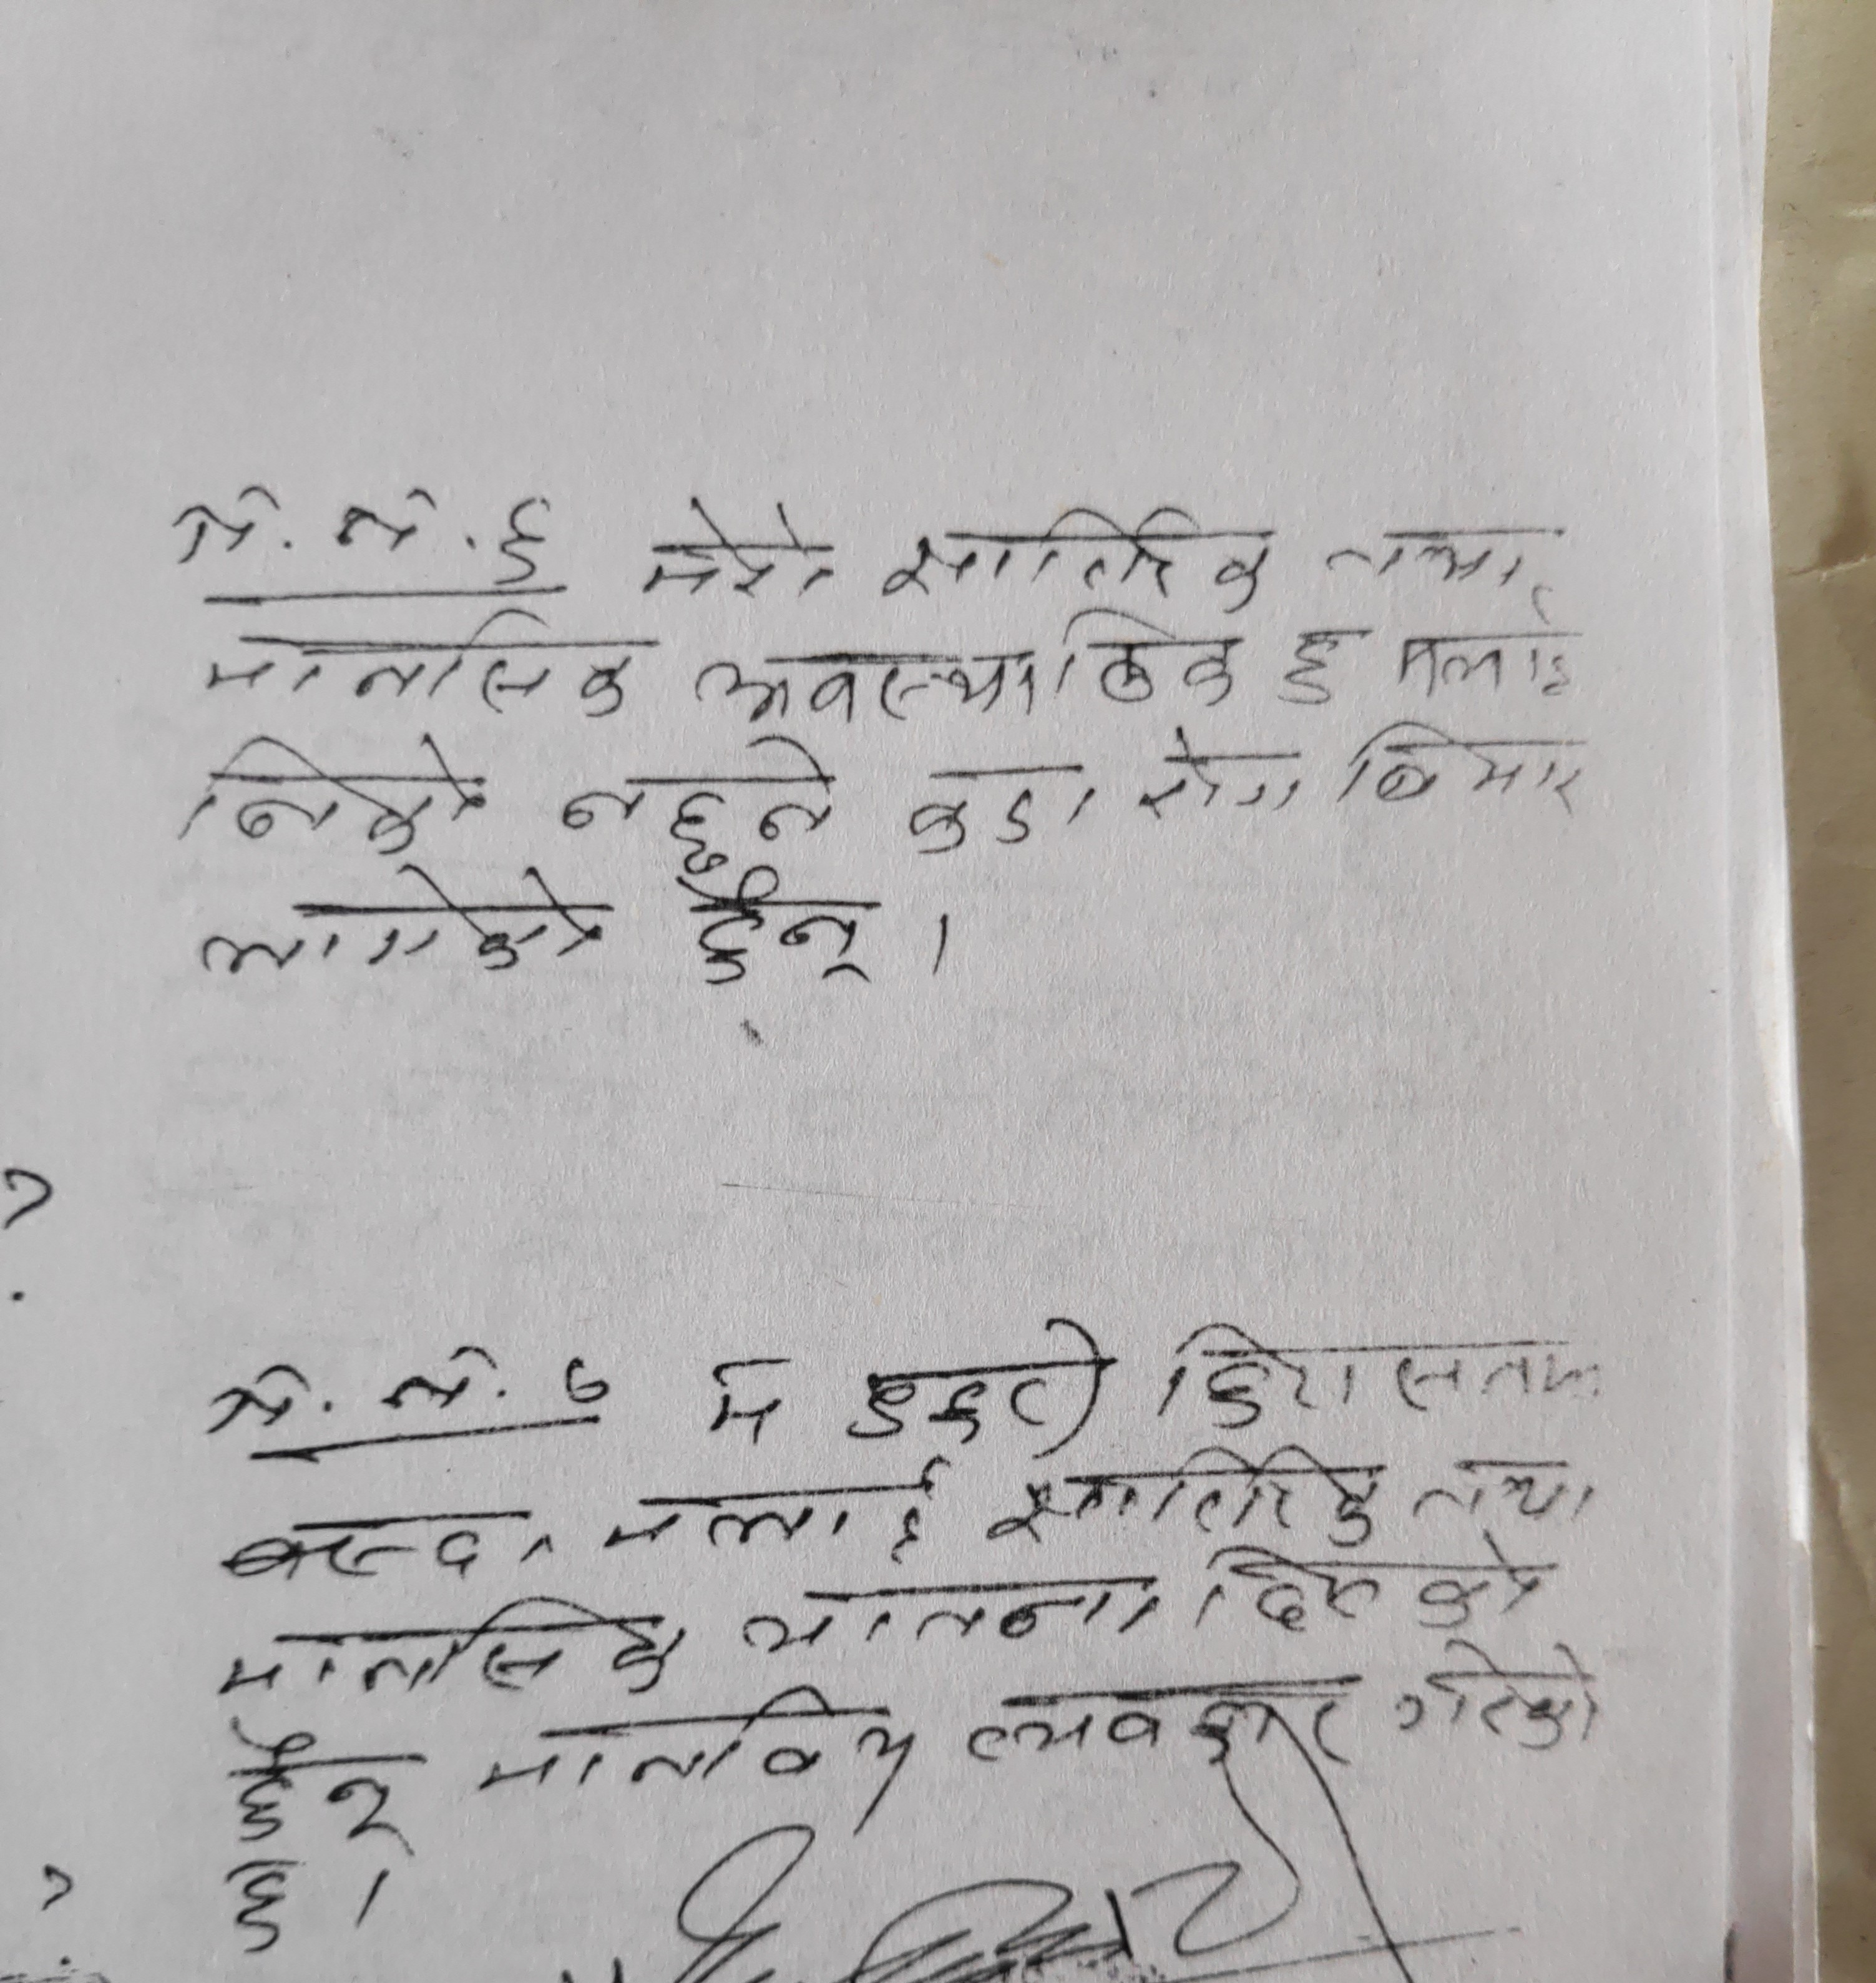text: (465, 1682, 936, 1814), (1153, 1318, 1620, 1449), (213, 1599, 677, 1713), (199, 608, 647, 724), (190, 860, 621, 980), (875, 501, 1278, 622), (167, 471, 562, 592), (959, 1673, 1373, 1782), (984, 1444, 1388, 1553), (594, 1449, 950, 1569), (175, 726, 485, 864), (555, 726, 841, 873), (196, 1340, 608, 1440), (845, 1306, 1102, 1463), (741, 1565, 1165, 1657), (684, 629, 1042, 735), (1197, 1532, 1545, 1639), (1326, 712, 1596, 825), (656, 864, 880, 994), (1388, 1634, 1612, 1759), (217, 1500, 562, 1579), (633, 483, 845, 608), (213, 1731, 413, 1847), (1053, 601, 1245, 717), (1384, 596, 1583, 703), (1127, 712, 1315, 825), (901, 751, 1102, 855), (1409, 1445, 1613, 1539), (1314, 515, 1543, 592), (695, 1348, 797, 1452), (220, 1860, 316, 1964), (1266, 612, 1361, 714)
